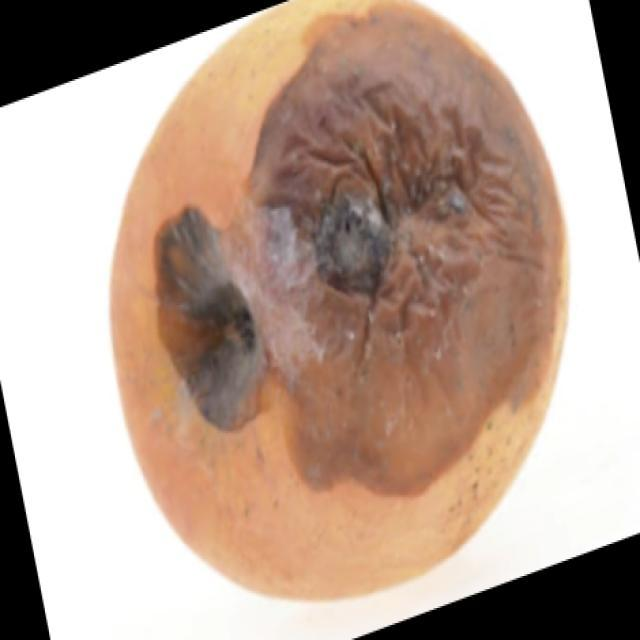Rotten: (107, 0, 564, 617)
